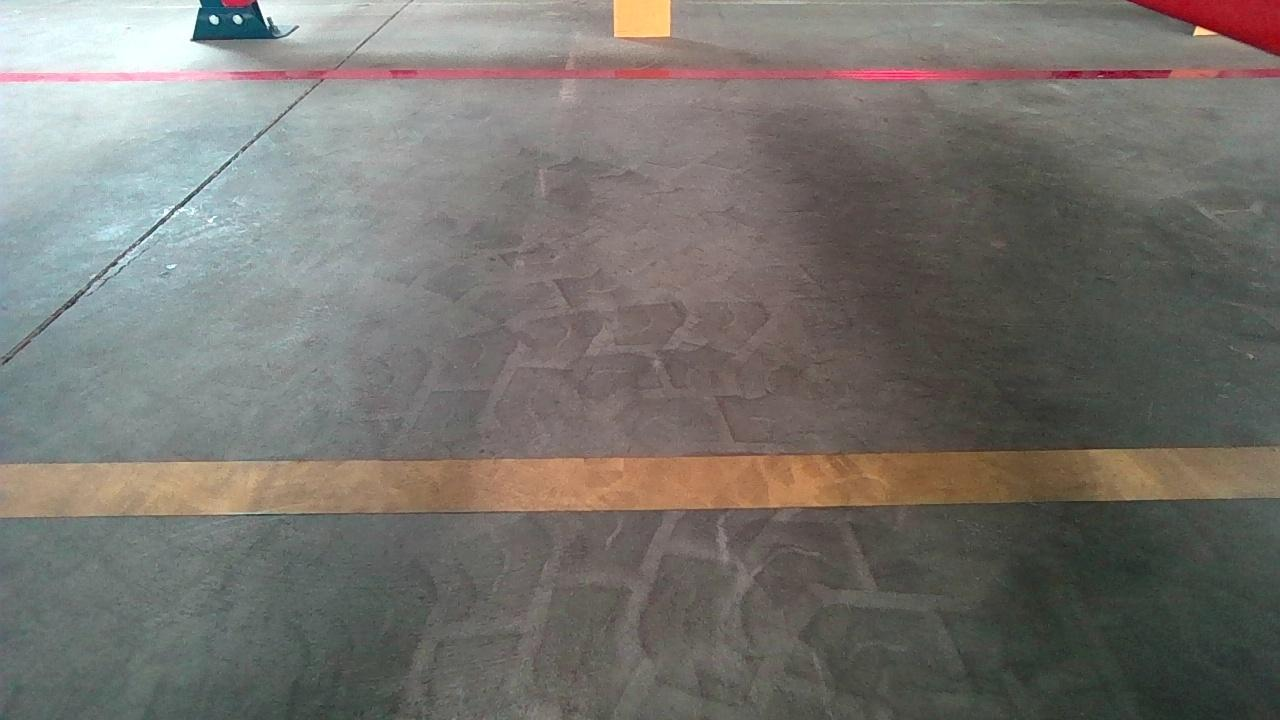orange_strip: (612, 0, 672, 39)
yellow_line: (0, 443, 1270, 521)
